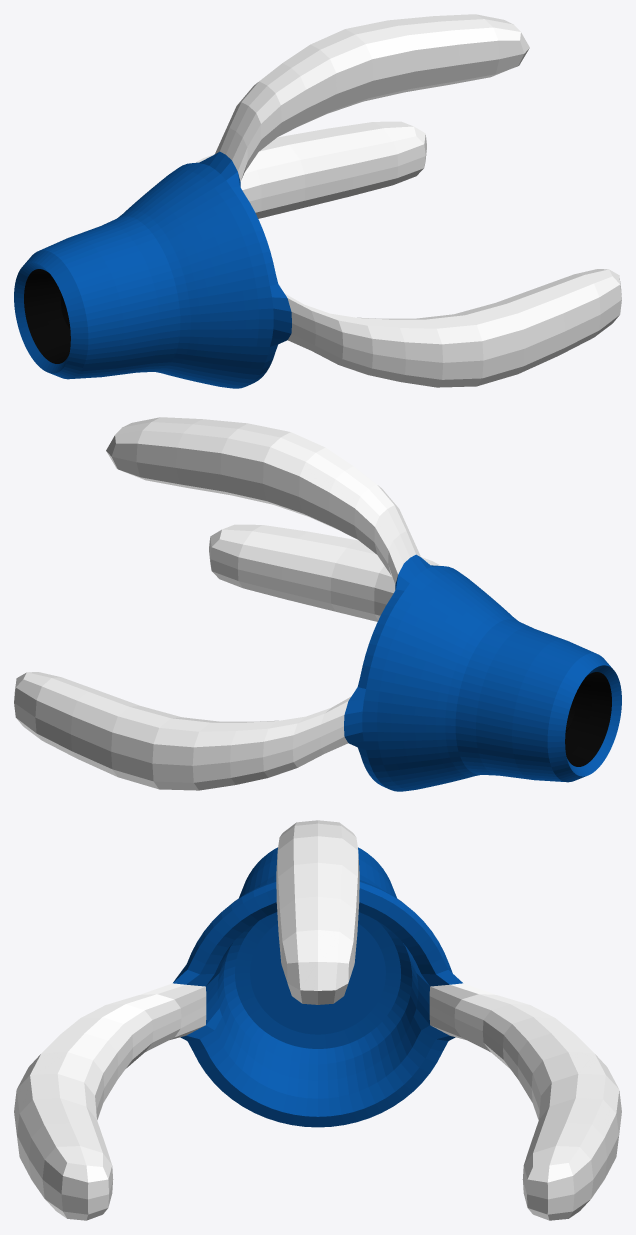
File: EnemyWeapon3.fbx
The picture shows the model from 3 angles, top to bottom: view 1: azimuth 30°, elevation 25°; view 2: azimuth 150°, elevation 25°; view 3: azimuth 270°, elevation 25°; orthographic projection. The views are drawn at different scales.
Visible parts, largest first — view 1: Cylinder; view 2: Cylinder; view 3: Cylinder.
Boxes of the visible parts, x1,y1,x2,y2 form: Cylinder: (14,14,621,388); Cylinder: (14,417,621,791); Cylinder: (14,820,621,1220).
Bounding box in the file's own units: 802 × 496 × 739.
